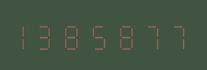eight: (65, 20, 88, 50), (113, 20, 136, 50)
five: (89, 20, 112, 50)
one: (17, 20, 40, 50)
seven: (137, 20, 160, 50), (161, 20, 184, 50)
three: (41, 20, 64, 50)
